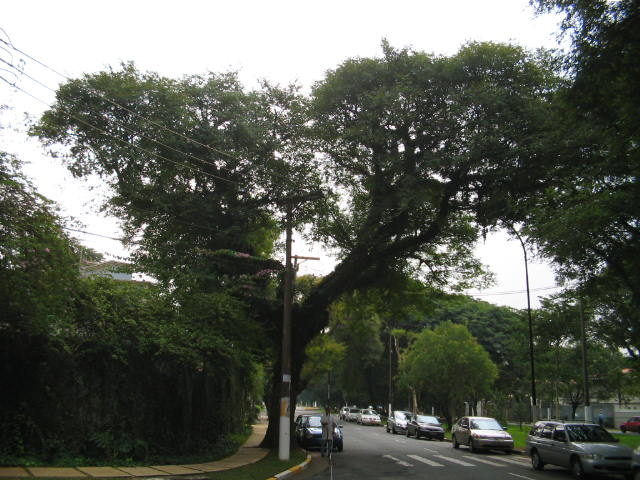crown: (35, 34, 565, 299)
stem: (258, 335, 317, 449)
stick: (320, 370, 341, 457)
tree: (32, 32, 567, 451), (397, 323, 501, 429)
